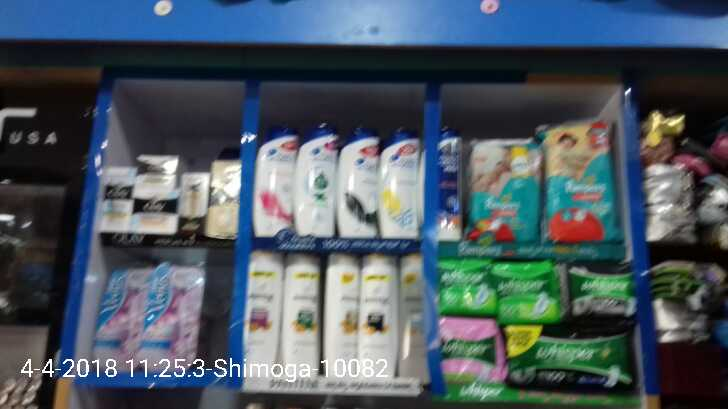venus: (140, 264, 202, 366), (90, 264, 141, 367)
